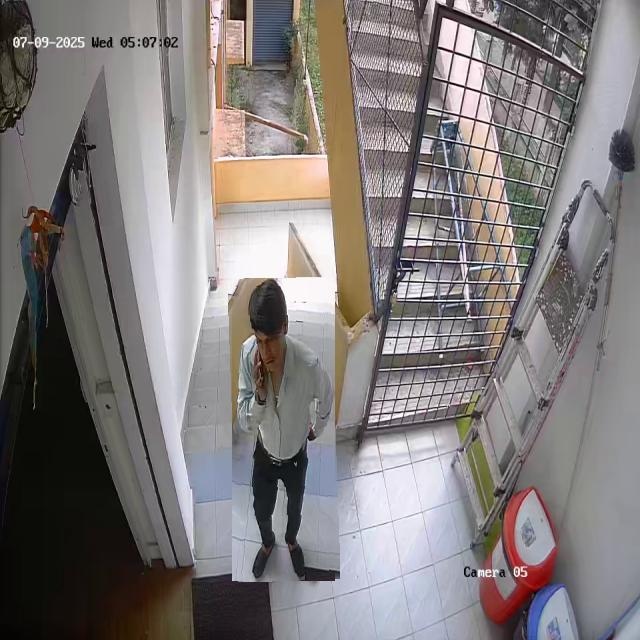person: (230, 277, 338, 582)
